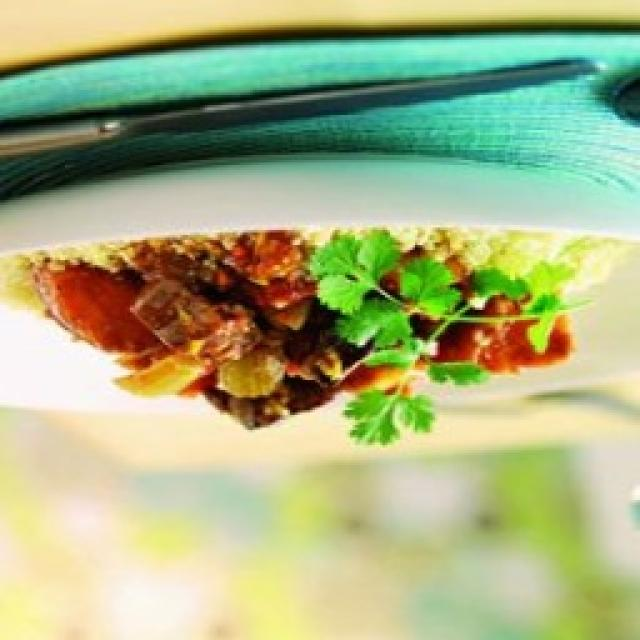Couscous: (11, 229, 618, 446)
